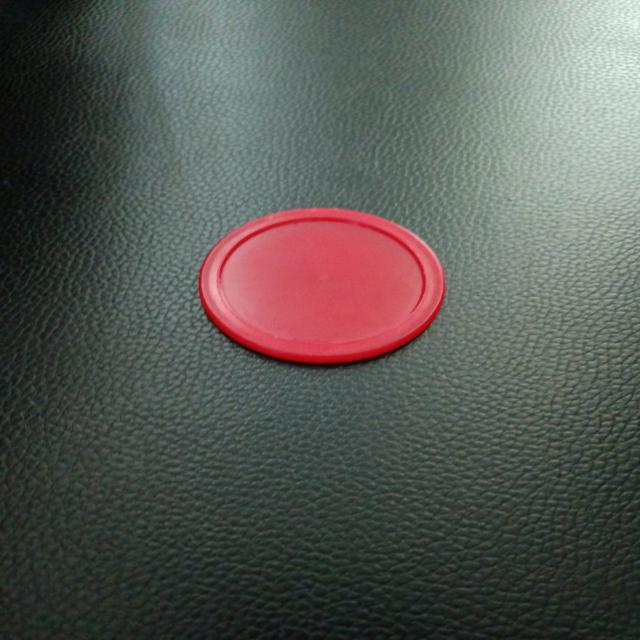chip: (196, 205, 450, 365)
